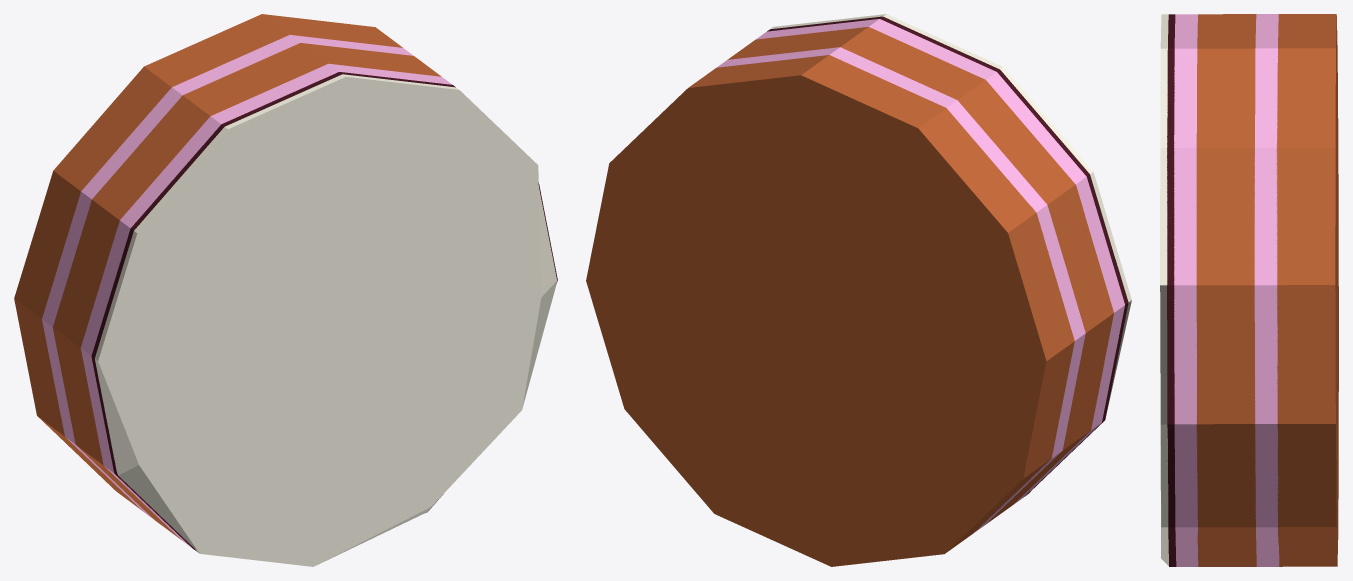
The picture shows the model from 3 angles, left to right: view 1: azimuth 30°, elevation 25°; view 2: azimuth 150°, elevation 25°; view 3: azimuth 270°, elevation 25°; orthographic projection. The views are drawn at different scales.
Visible parts, largest first — view 1: Cylinder.005, Cylinder.001, Cylinder, Cylinder.003, Cylinder.002, Cylinder.004; view 2: Cylinder, Cylinder.001, Cylinder.003, Cylinder.002, Cylinder.004, Cylinder.005; view 3: Cylinder, Cylinder.001, Cylinder.002, Cylinder.003, Cylinder.005, Cylinder.004.
Boxes of the visible parts, box(x1,y1,x2,y2) form: Cylinder.005: box(94, 74, 556, 566); Cylinder.001: box(52, 43, 441, 539); Cylinder: box(14, 14, 402, 510); Cylinder.003: box(81, 63, 452, 547); Cylinder.002: box(42, 35, 413, 519); Cylinder.004: box(91, 72, 557, 550); Cylinder: box(586, 55, 1074, 566); Cylinder.001: box(727, 27, 1113, 525); Cylinder.003: box(756, 19, 1124, 503); Cylinder.002: box(717, 47, 1085, 532); Cylinder.004: box(767, 16, 1128, 496); Cylinder.005: box(770, 14, 1131, 493); Cylinder: box(1276, 14, 1338, 566); Cylinder.001: box(1196, 14, 1256, 566); Cylinder.002: box(1254, 14, 1279, 566); Cylinder.003: box(1174, 14, 1198, 566); Cylinder.005: box(1160, 14, 1168, 565); Cylinder.004: box(1167, 14, 1176, 566).
Size of the model in its own units: 1.52 by 1.52 by 0.4914.
